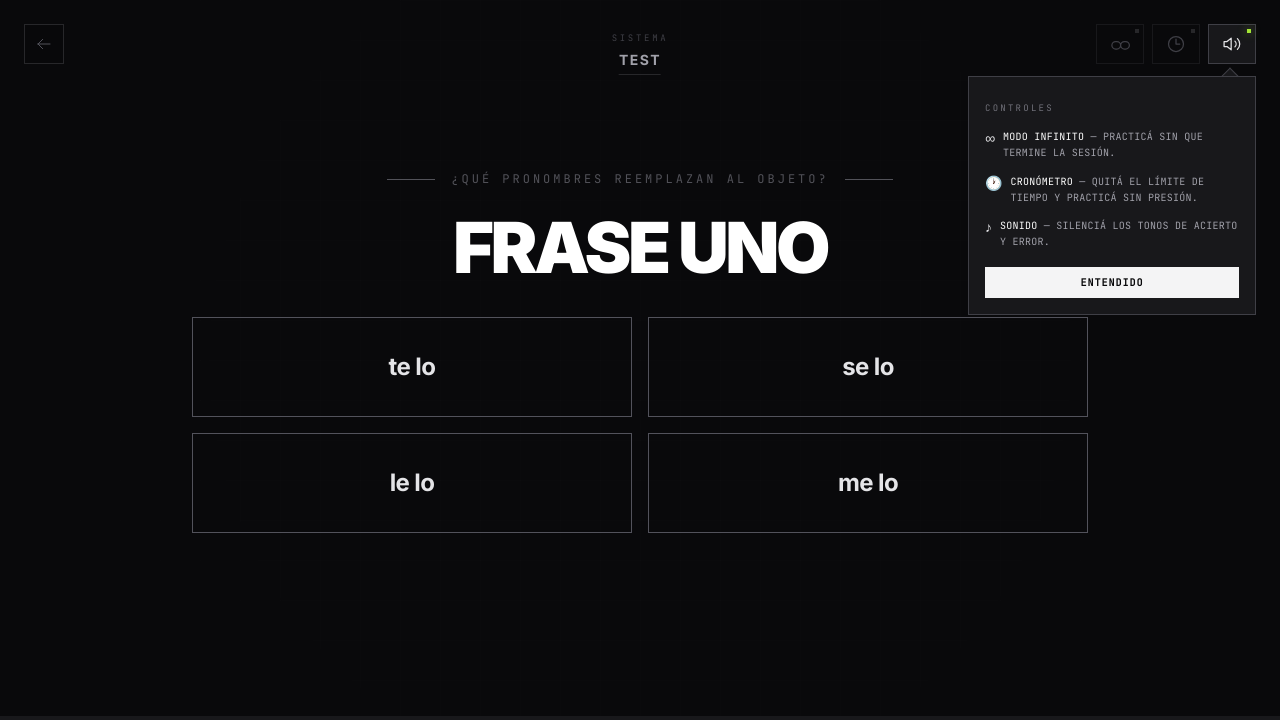
it: ExerciseSession › un acierto avanza a la siguiente pregunta tras 2 s
Expected: the heading "FRASE UNO" is shown, 453,211 -> 827,285
Click the button "se lo". click: (868, 367)
box: 648,317 -> 1088,417
Wait 2300 ms
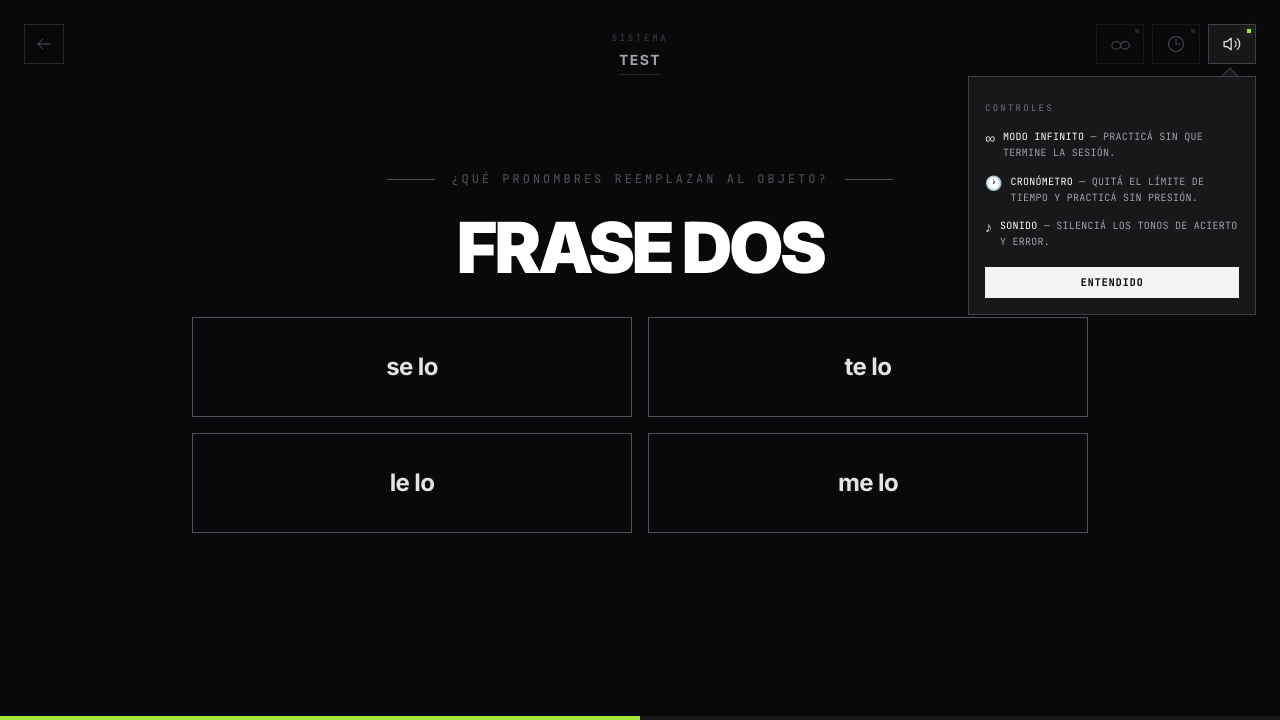
Result: the heading "FRASE DOS" is shown at 457,211 -> 823,285
